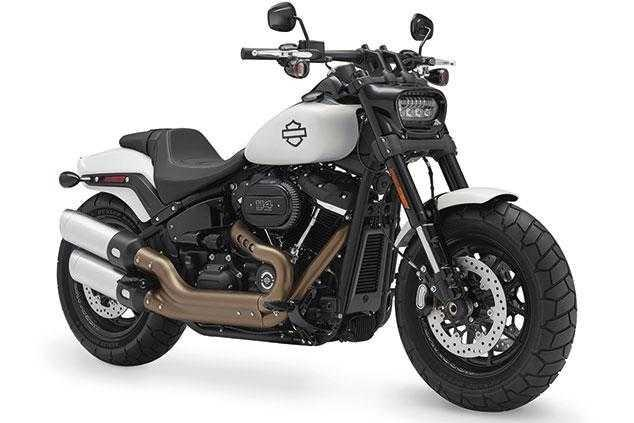motorbike: (48, 32, 579, 420)
